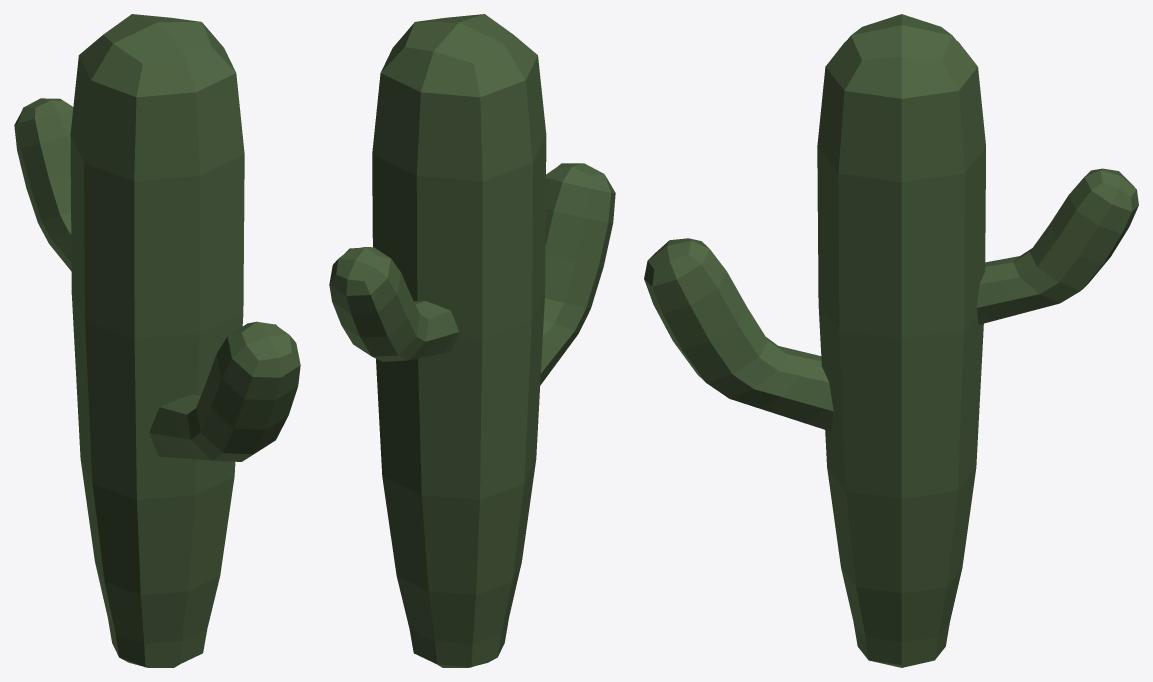
The model's file is Cactus2.glb.
The picture shows the model from 3 angles, left to right: view 1: azimuth 30°, elevation 25°; view 2: azimuth 150°, elevation 25°; view 3: azimuth 270°, elevation 25°; orthographic projection.
Visible parts, largest first — view 1: Cactus_3_Cube.009; view 2: Cactus_3_Cube.009; view 3: Cactus_3_Cube.009.
Part boxes in pixels (x1,y1,x2,y2): Cactus_3_Cube.009: (14, 14, 300, 667); Cactus_3_Cube.009: (329, 14, 615, 667); Cactus_3_Cube.009: (644, 14, 1138, 667).
Size of the model in its own units: 0.3418 by 1.41 by 1.
